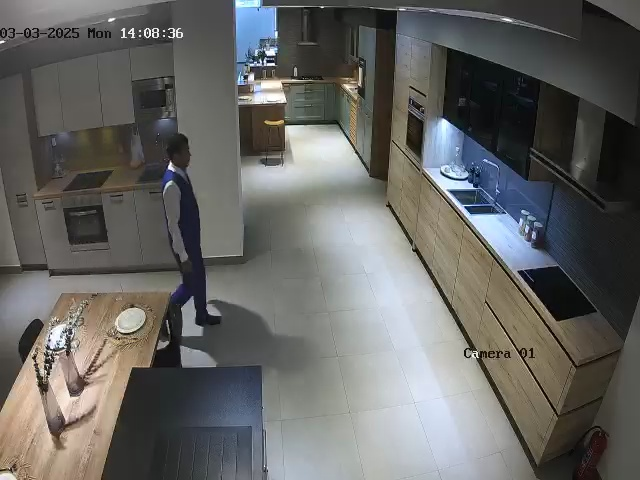employee: (160, 132, 223, 334)
